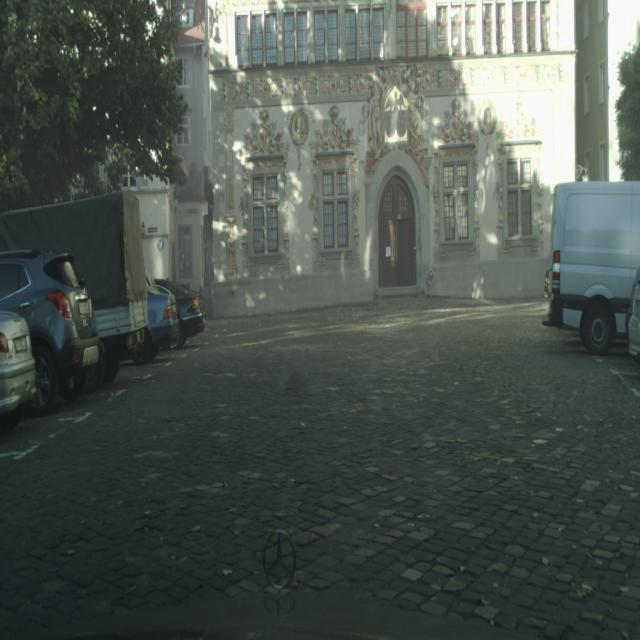bicycle: (1, 190, 148, 389), (546, 180, 640, 355)
bus: (0, 250, 101, 416), (0, 309, 37, 426), (132, 270, 177, 362), (155, 272, 205, 348), (627, 269, 640, 362)
